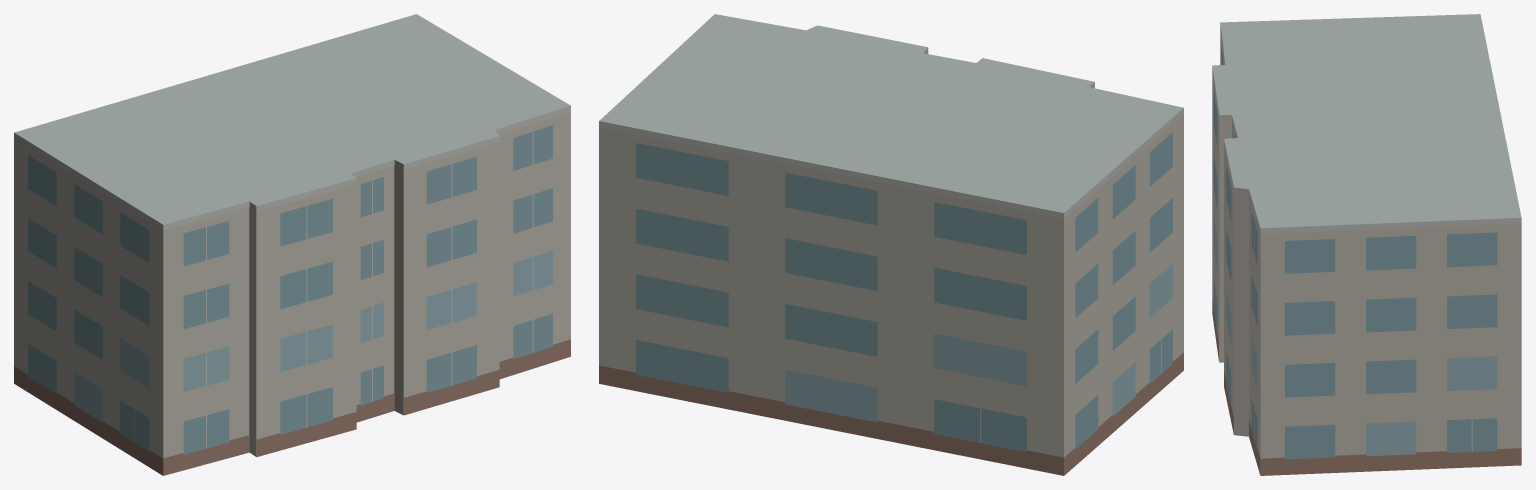
The model's file is survey-upis-32936123.glb.
3 views of the same model, side by side, from view 1: azimuth 30°, elevation 25°; view 2: azimuth 150°, elevation 25°; view 3: azimuth 270°, elevation 25° (orthographic). The views are drawn at different scales.
Visible parts, largest first — view 1: survey-upis-32936123.tmp; view 2: survey-upis-32936123.tmp; view 3: survey-upis-32936123.tmp.
Boxes of the visible parts, x1,y1,x2,y2 form: survey-upis-32936123.tmp: (14, 14, 570, 475); survey-upis-32936123.tmp: (599, 14, 1183, 475); survey-upis-32936123.tmp: (1212, 14, 1521, 475).
Bounding box in the file's own units: 19.68 × 10.6 × 12.01.
